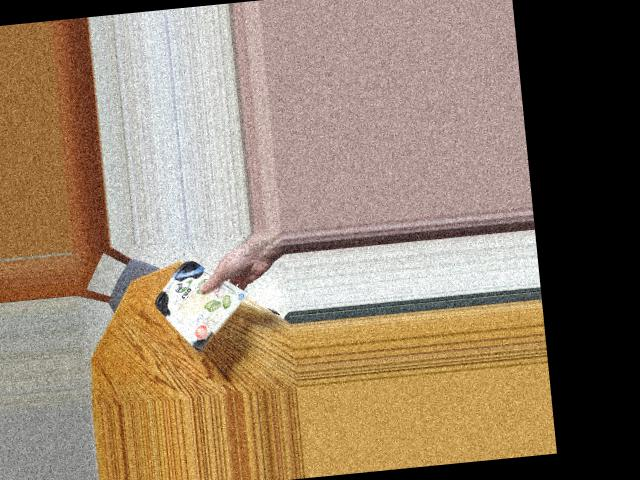cheese: (159, 257, 234, 342)
